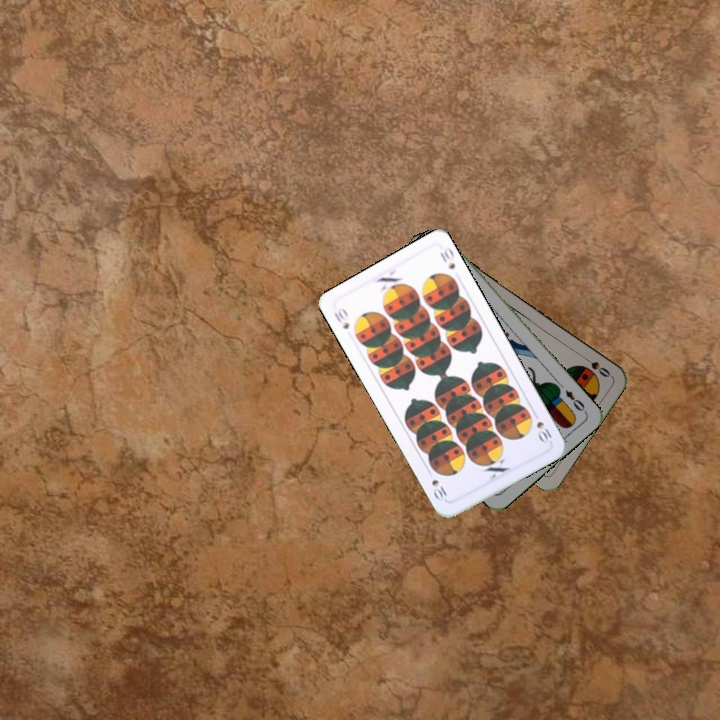EO: (561, 386, 589, 416)
S10: (532, 417, 556, 446), (330, 303, 352, 332)
SO: (578, 351, 614, 380)
